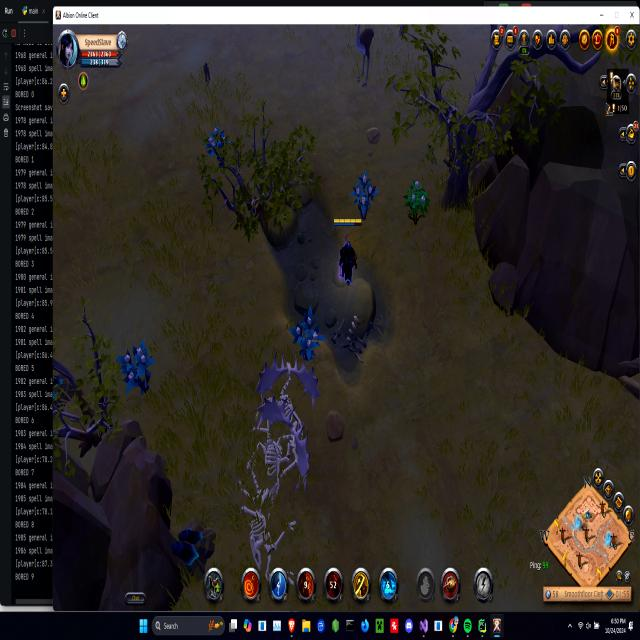hide: (288, 296, 326, 369), (116, 336, 156, 398), (348, 167, 379, 222), (402, 174, 430, 230), (204, 124, 230, 166)
ore: (352, 21, 376, 98)
red: (329, 209, 366, 294)
